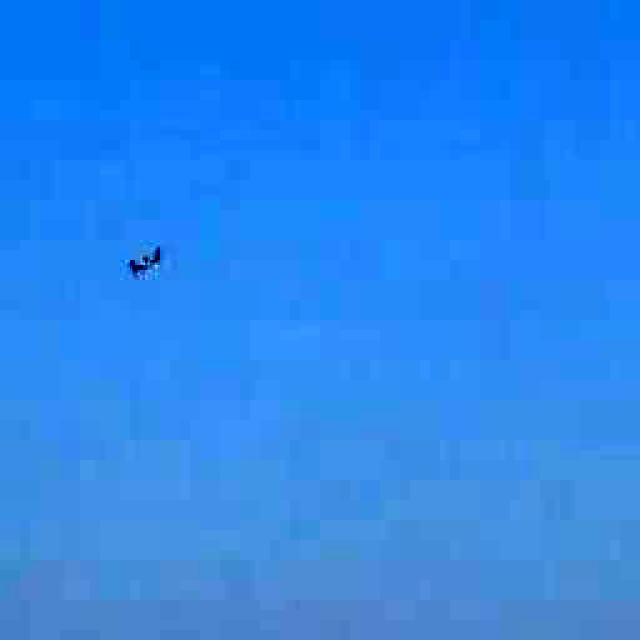bird: (118, 212, 175, 295)
